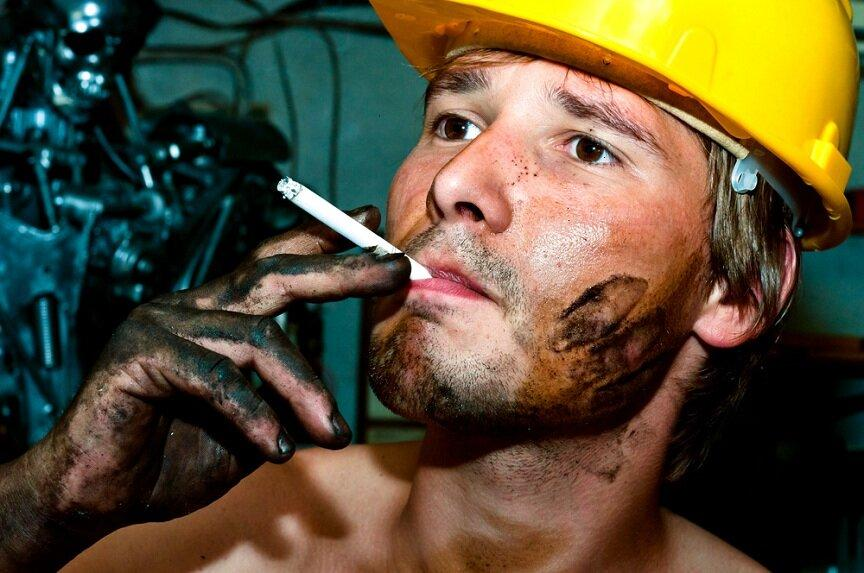cigarette: (277, 175, 433, 279)
